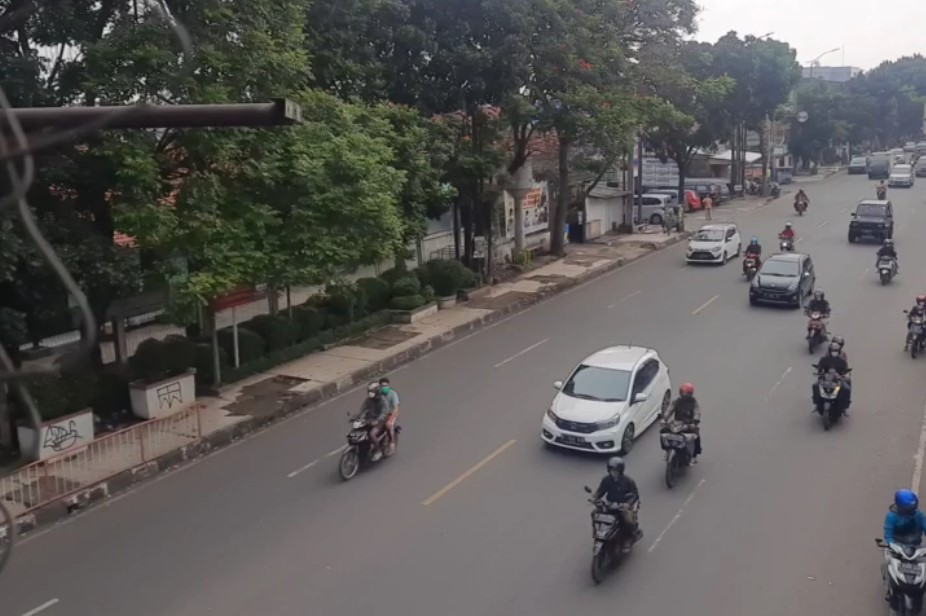motor: (568, 458, 656, 586), (867, 483, 926, 616), (336, 380, 406, 479), (653, 381, 708, 486), (807, 340, 869, 433), (796, 290, 832, 352), (866, 238, 905, 287), (902, 294, 926, 362), (737, 240, 765, 277)
